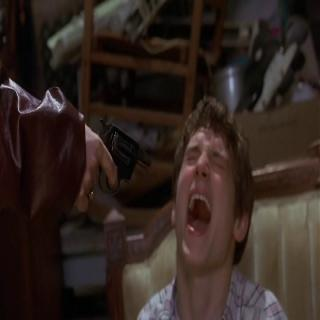gun: (88, 112, 156, 199)
